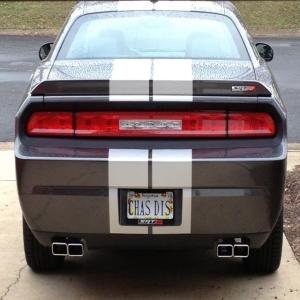Plate: (127, 191, 174, 220)
